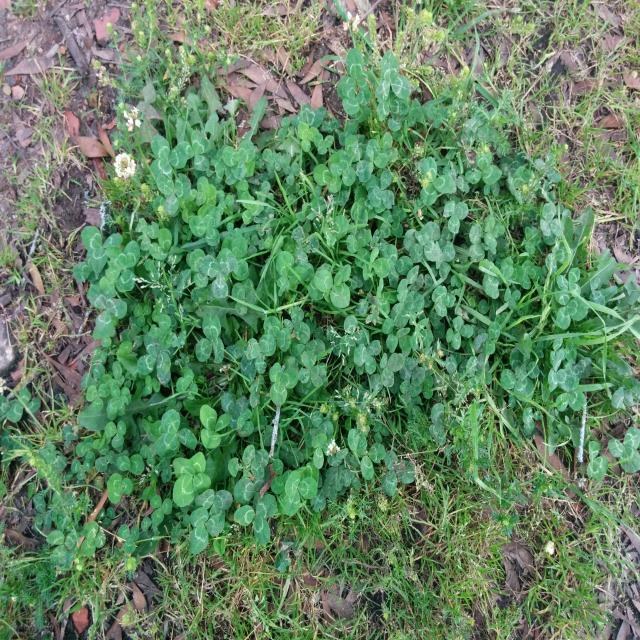Four Leaf Clover: (172, 453, 210, 507)
